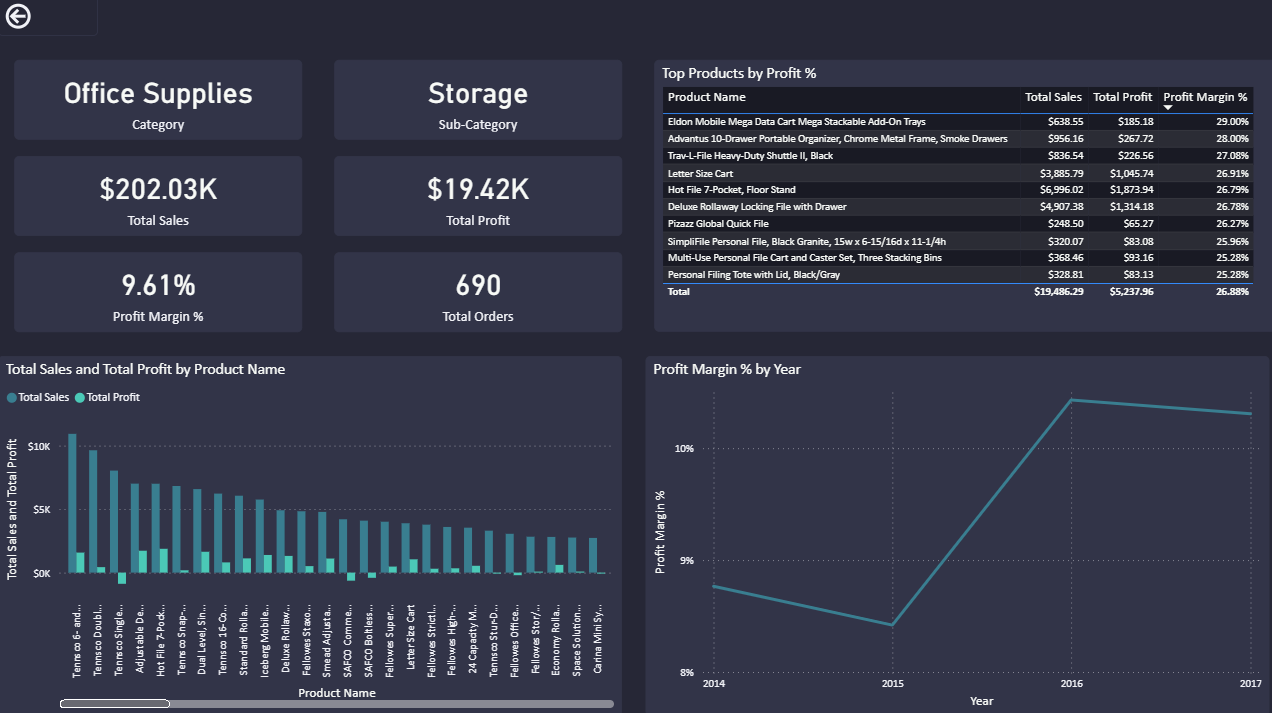

What the dashboard file says about the page in this screenshot:
{"tool":"powerbi","page":{"name":"Drillthrough Product","canvas":[1280,720],"ordinal":6},"visuals":[{"type":"clusteredColumnChart","fields":{"Y":["Orders.Total Sales","Orders.Total Profit"],"Category":["Orders.Product Name"]},"box":[0,360,624,360],"z":0},{"type":"actionButton","box":[0,0,100,40],"z":1000},{"type":"lineChart","fields":{"Category":["Orders.Order Date.Variation.Date Hierarchy.Year"],"Y":["Orders.Profit Margin %"]},"box":[648,360,624,360],"z":2000},{"type":"tableEx","title":"Top Products by Profit %","fields":{"Values":["Orders.Product Name","Orders.Total Sales","Orders.Total Profit","Orders.Profit Margin %"]},"box":[656,64,624,272],"z":3000},{"type":"card","fields":{"Values":["Orders.Profit Margin %"]},"box":[16,256,288,80],"z":4000},{"type":"card","fields":{"Values":["Orders.Total Orders"]},"box":[336,256,288,80],"z":5000},{"type":"card","fields":{"Values":["Orders.Total Sales"]},"box":[16,160,288,80],"z":6000},{"type":"card","fields":{"Values":["Orders.Total Profit"]},"box":[336,160,288,80],"z":7000},{"type":"card","fields":{"Values":["Min(Orders.Category)"]},"box":[16,64,288,80],"z":8000},{"type":"card","fields":{"Values":["Min(Orders.Sub-Category)"]},"box":[336,64,288,80],"z":9000}]}

Visuals, with their boxes in screenshot pixels (x1, y1, x2, y2), scaled from the page's 1280x720 canvas onto the 1272x713 screenshot:
clusteredColumnChart - Orders.Total Sales x Orders.Total Profit: box(0, 356, 620, 712)
actionButton: box(0, 0, 99, 40)
lineChart - Orders.Order Date.Variation.Date Hierarchy.Year x Orders.Profit Margin %: box(644, 356, 1264, 712)
"Top Products by Profit %" tableEx: box(652, 63, 1271, 333)
card - Orders.Profit Margin %: box(16, 254, 302, 333)
card - Orders.Total Orders: box(334, 254, 620, 333)
card - Orders.Total Sales: box(16, 158, 302, 238)
card - Orders.Total Profit: box(334, 158, 620, 238)
card - Min(Orders.Category): box(16, 63, 302, 143)
card - Min(Orders.Sub-Category): box(334, 63, 620, 143)
